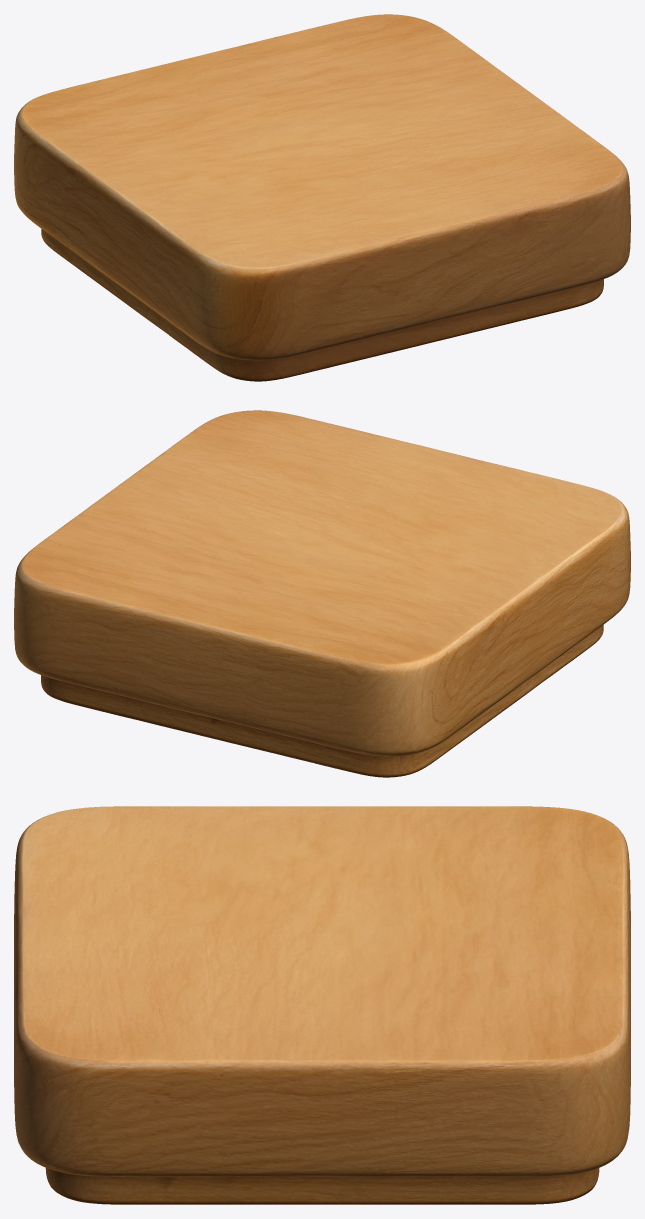
File: tripo_convert_381ecf81-452a-4c52-a3c2-ba33e0e098de.fbx
3 renders of one model, top to bottom at view 1: azimuth 30°, elevation 25°; view 2: azimuth 150°, elevation 25°; view 3: azimuth 270°, elevation 25°, orthographic. The views are drawn at different scales.
Parts seen in each view (by area): view 1: tripo_node_381ecf81; view 2: tripo_node_381ecf81; view 3: tripo_node_381ecf81.
Boxes of the visible parts, x1,y1,x2,y2 form: tripo_node_381ecf81: [14, 14, 630, 381]; tripo_node_381ecf81: [14, 410, 630, 777]; tripo_node_381ecf81: [14, 806, 630, 1204].
Size of the model in its own units: 0.9797 by 0.2734 by 0.9784.
Materials: 1 (1 with a texture image).
